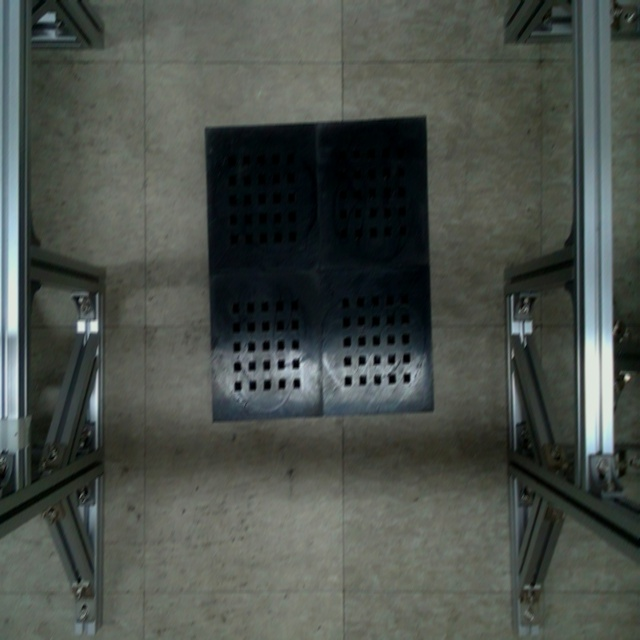pallet: (196, 109, 440, 430)
